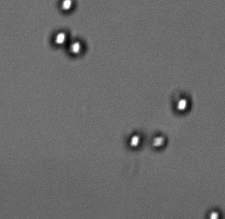Living Cell: (171, 91, 194, 115), (150, 127, 168, 152), (48, 26, 69, 47), (66, 38, 87, 58), (126, 130, 145, 151), (56, 1, 77, 14)
